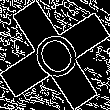O_SE: (23, 22, 87, 88)
